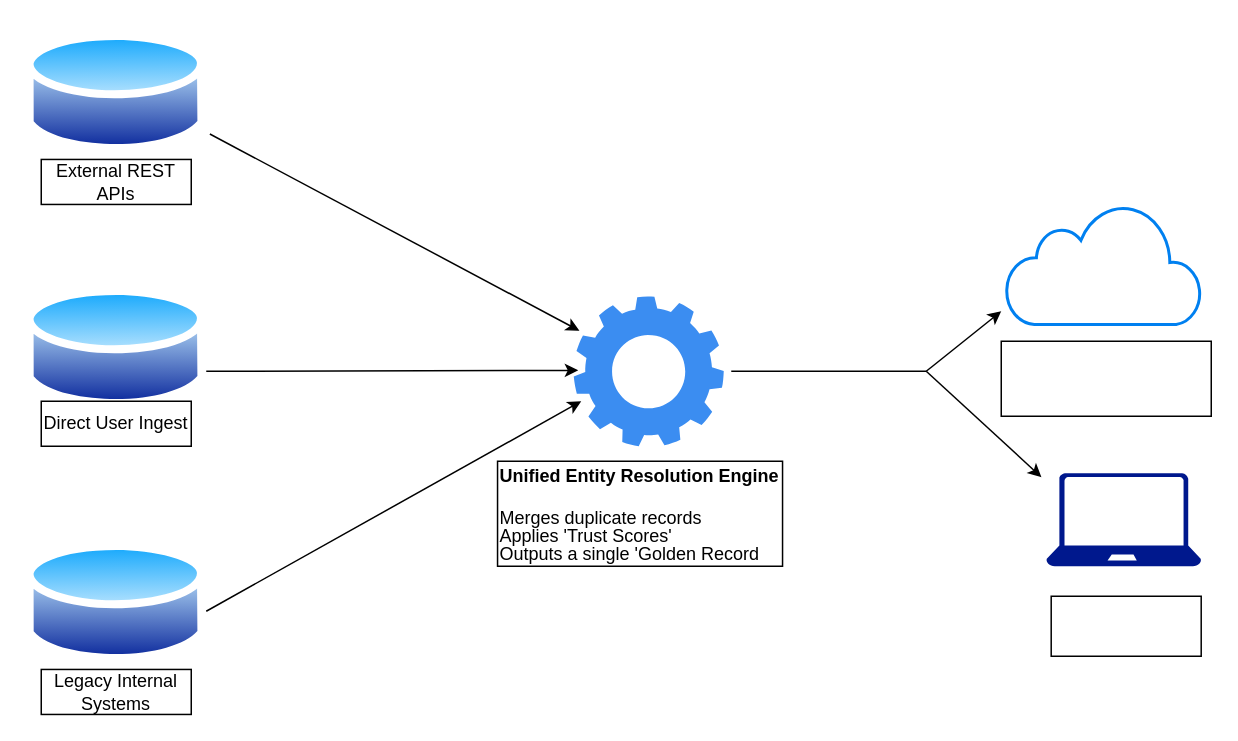
Some shapes in this 1238 by 741 pixel diagram are drawn without their labels. The shapes that lost their labels are listed below. From the top down, each one's centre as x and y in pixels, then its label:
the point at 1105,378: Scalable Data Warehouse 140M+ verified records
the point at 1125,625: BI & Analytics Layer
